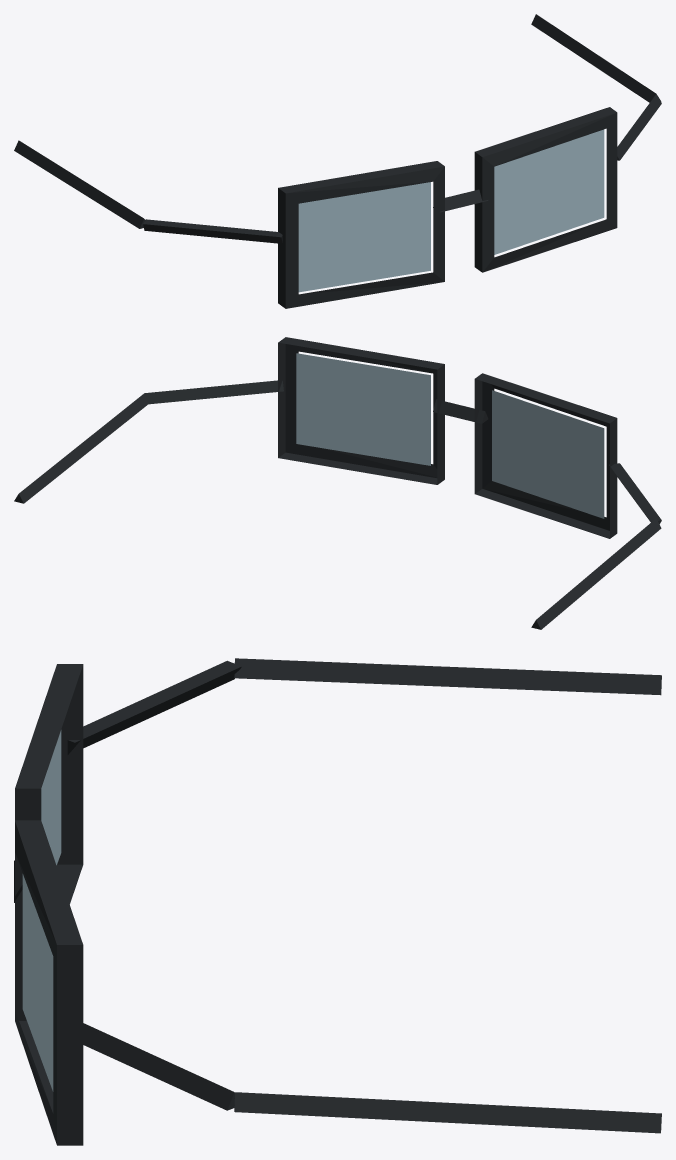
The model's file is glasses.glb.
3 renders of one model, top to bottom at view 1: azimuth 30°, elevation 25°; view 2: azimuth 150°, elevation 25°; view 3: azimuth 270°, elevation 25°, orthographic. The views are drawn at different scales.
Visible parts, largest first — view 1: glasses-0, glasses-1; view 2: glasses-1, glasses-0; view 3: glasses-0, glasses-1.
Part boxes in pixels (x1,y1,x2,y2): glasses-0: (14,14,661,308); glasses-1: (298,129,604,292); glasses-1: (296,353,604,518); glasses-0: (14,337,661,629); glasses-0: (14,658,661,1145); glasses-1: (22,730,61,1091).
Size of the model in its own units: 0.2006 by 0.042 by 0.123.
